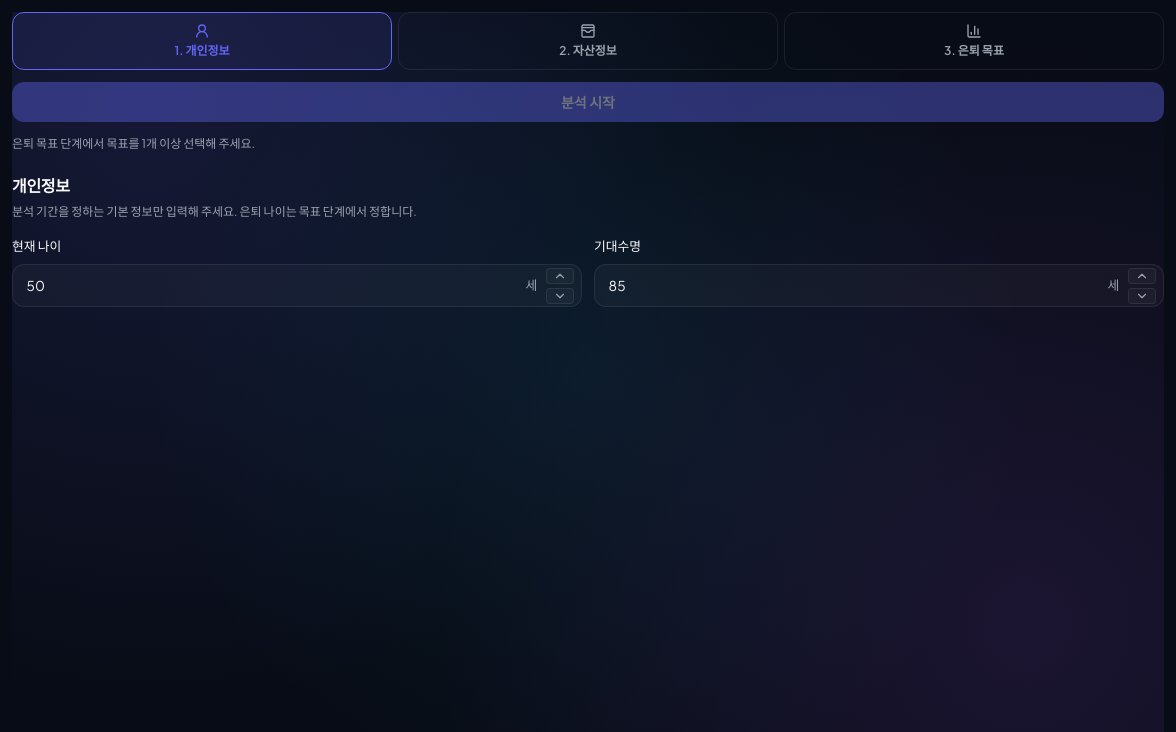
Test: RetirementInputFlow › 개인정보 단계의 나이 입력 › 비운 채로 포커스를 잃으면 저장된 나이로 되돌아간다
Clear the number field labelled "현재 나이" at (297, 286), box [12,264,582,307]
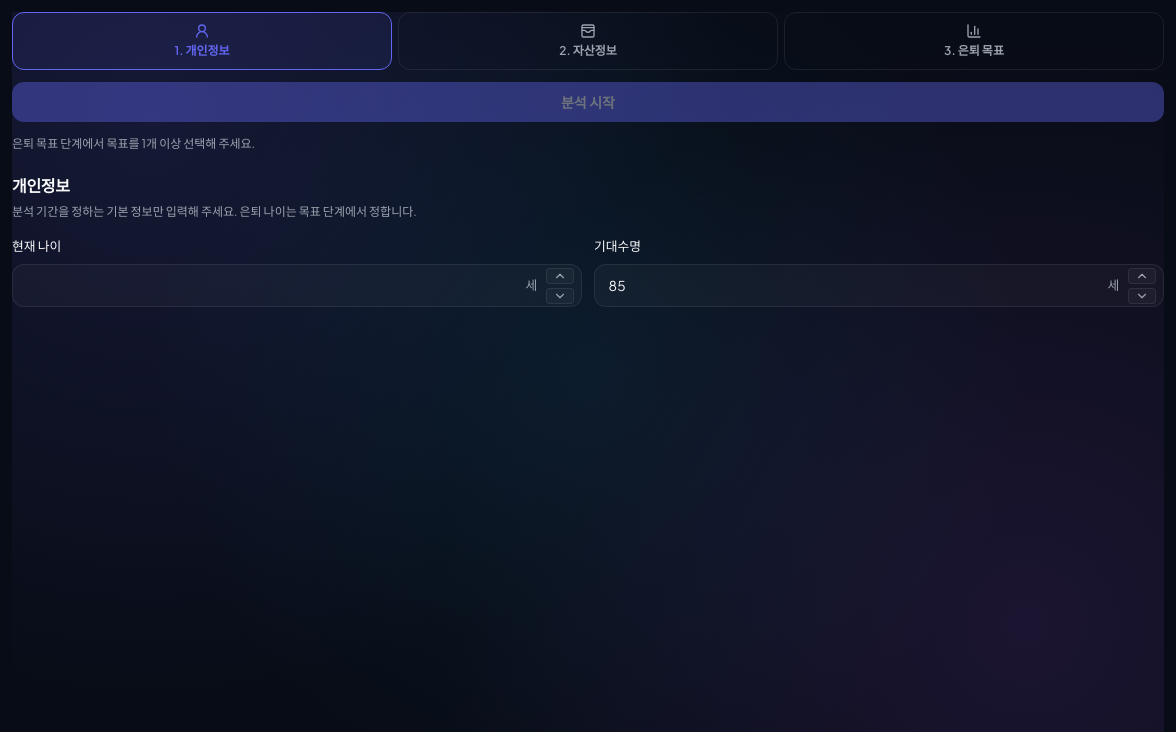
Leave the number field labelled "현재 나이", box [12,264,582,307]
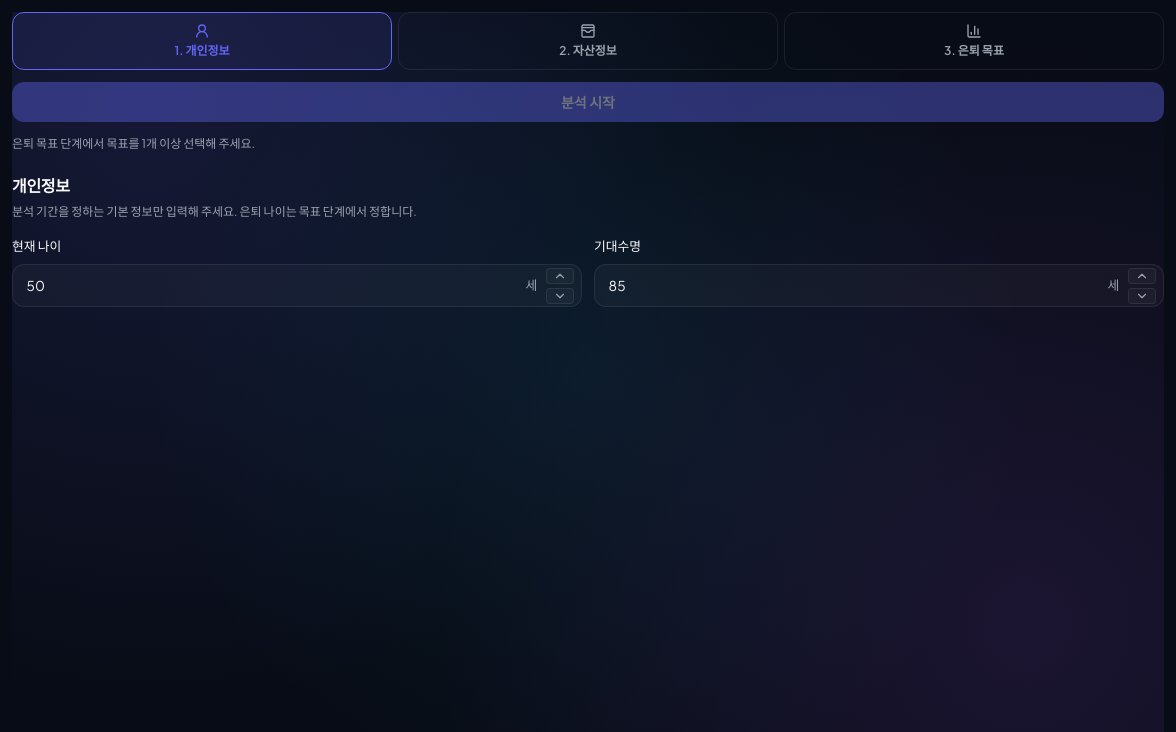
Check: the number field labelled "현재 나이" holds "50", box [12,264,582,307]
